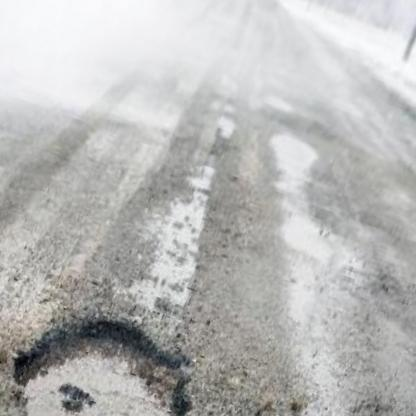pothole: (0, 278, 219, 416)
